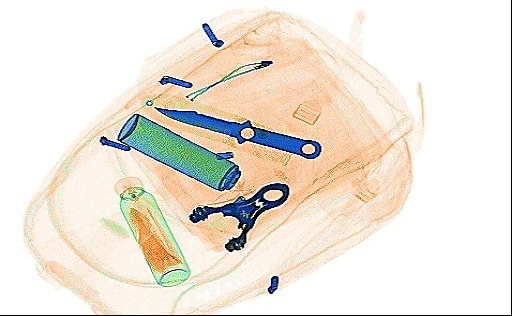knife: (151, 103, 319, 161)
pressure: (113, 111, 255, 195), (113, 175, 191, 288)
slingshot: (187, 179, 288, 252)
